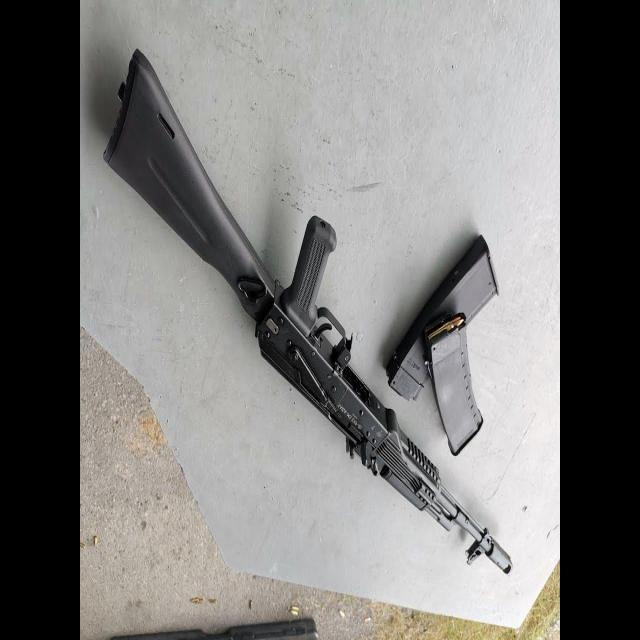weapon: (102, 46, 514, 578)
